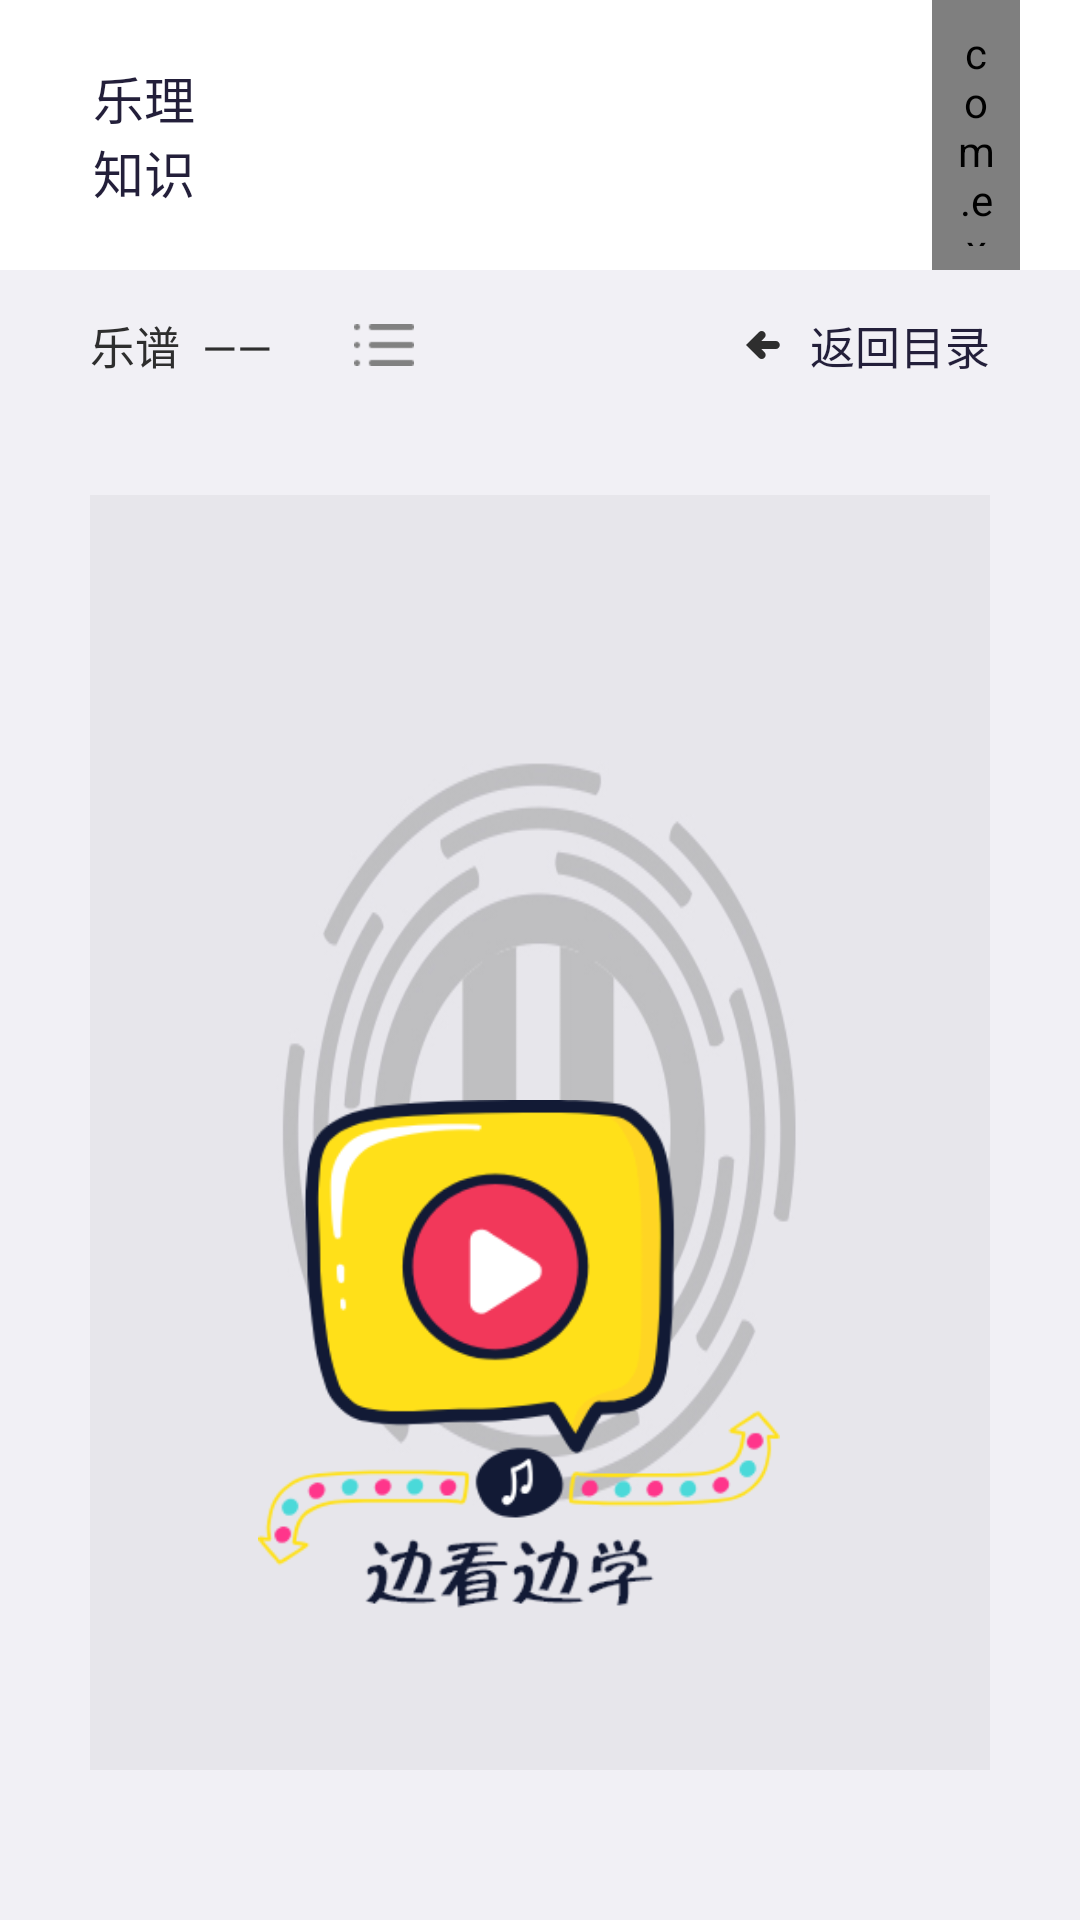

Icon click points for this 1080px×1920px phone screenshot, format point (x, y):
left: point (763, 345)
list: point (384, 345)
